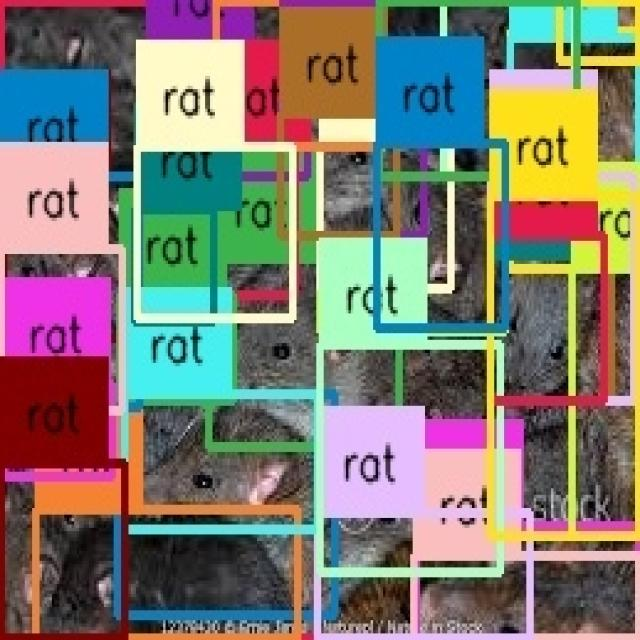rat: (1, 2, 639, 638), (490, 196, 639, 536), (117, 392, 335, 617), (491, 257, 640, 534), (320, 345, 500, 572), (208, 257, 400, 449), (378, 0, 576, 178), (320, 145, 505, 333), (37, 508, 297, 640), (490, 178, 634, 399), (1, 178, 140, 406), (510, 31, 639, 269), (137, 148, 293, 320), (124, 393, 318, 531), (318, 513, 530, 638), (214, 0, 385, 148), (415, 528, 640, 640), (510, 36, 639, 225), (491, 198, 612, 399), (377, 144, 505, 328), (444, 2, 574, 176), (0, 464, 126, 638), (4, 177, 140, 338), (147, 48, 308, 176), (0, 248, 124, 412), (280, 105, 424, 238), (320, 144, 451, 288), (491, 236, 604, 401), (415, 556, 640, 638), (572, 268, 639, 534), (280, 114, 396, 236), (204, 147, 295, 295), (121, 295, 235, 401), (2, 384, 114, 477), (134, 210, 213, 322), (561, 0, 640, 59)
